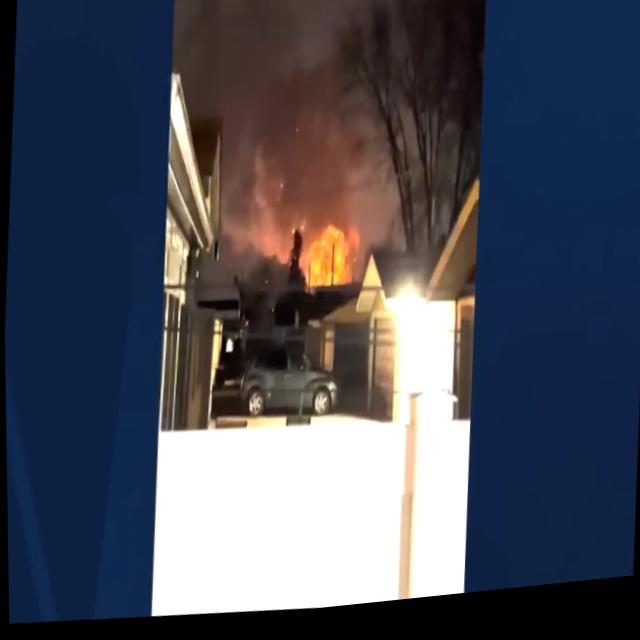Fire: (299, 216, 365, 296)
